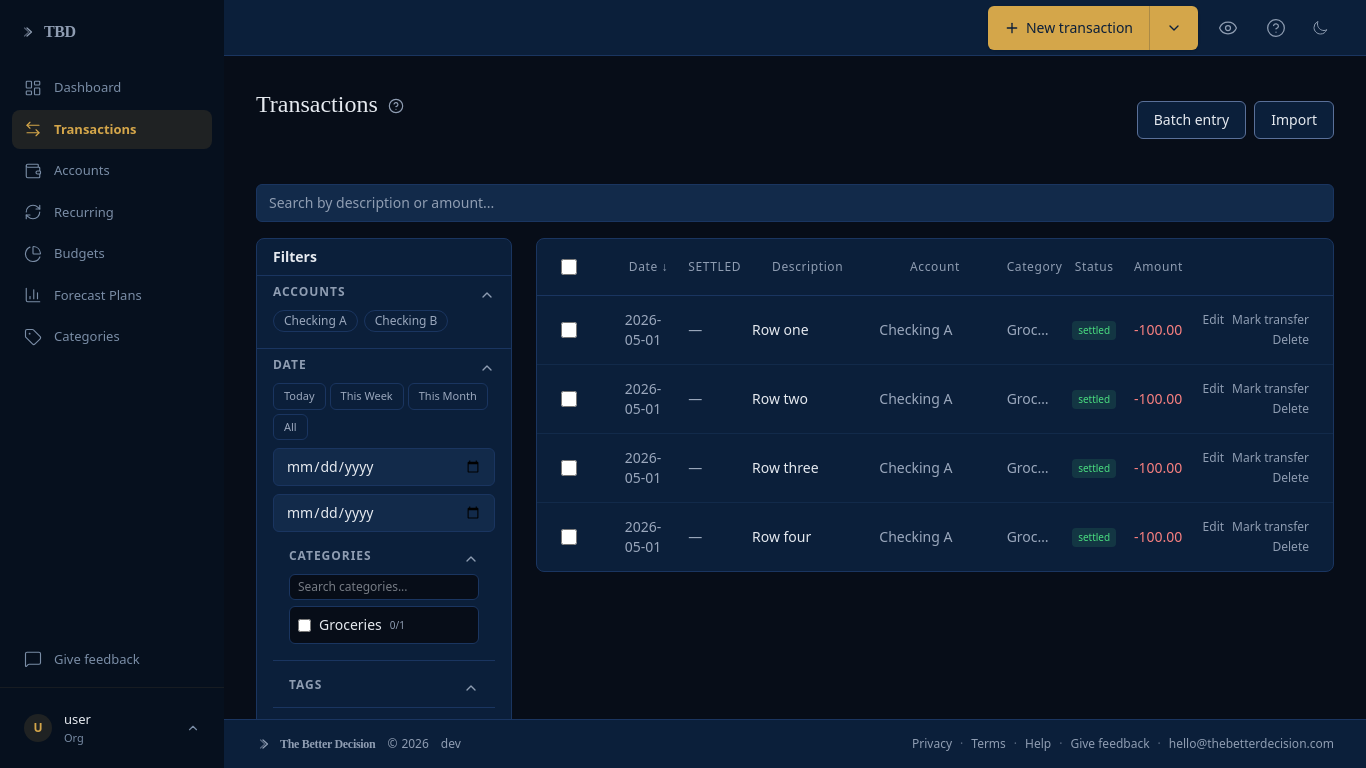
TransactionsPage — bulk-delete banner counts (TBD-290) › transfer cascade: never reports more deleted than the user selected
Check: the button with aria-label "Edit:" is shown, box [1203,312,1224,328]
Click the checkbox named "Select transaction 1".
click(569, 330)  # box [561,322,577,338]
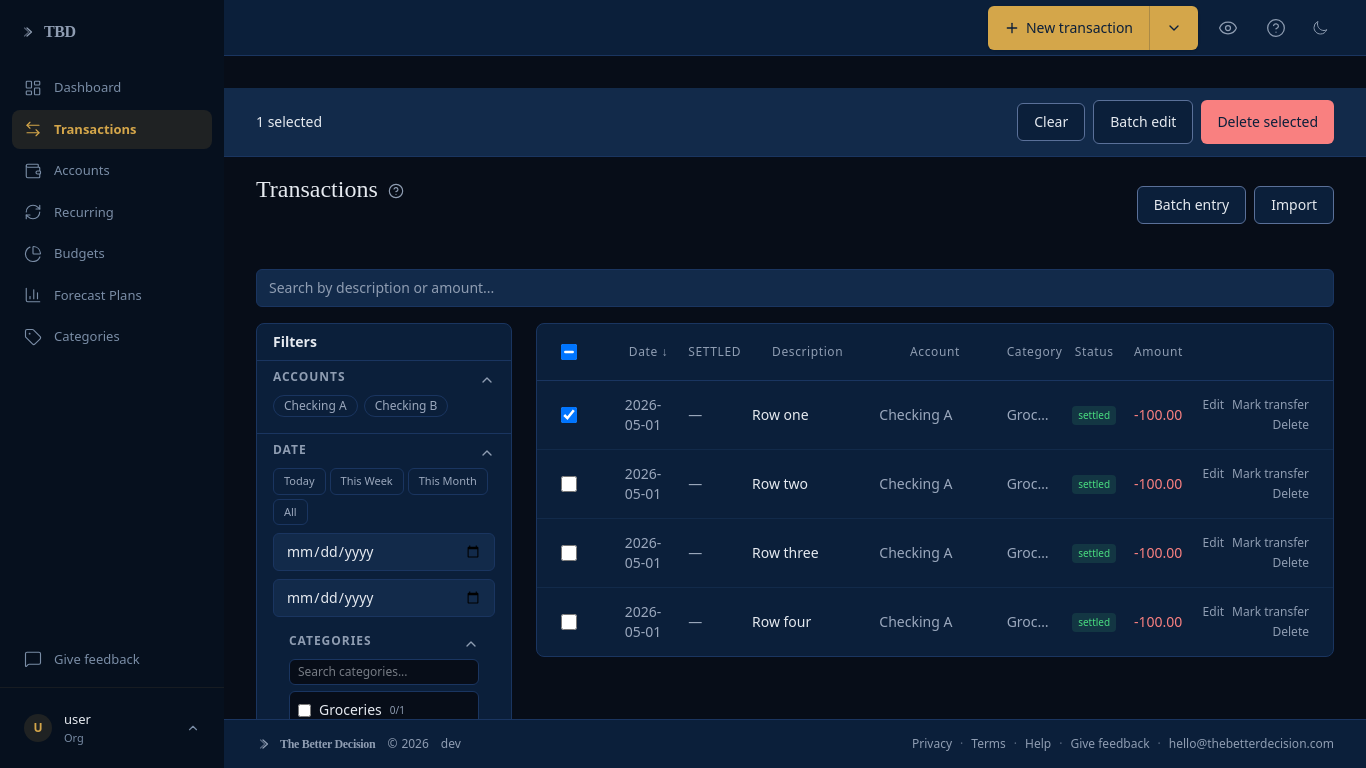
Click the checkbox named "Select transaction 2".
click(569, 484)  # box [561,476,577,492]
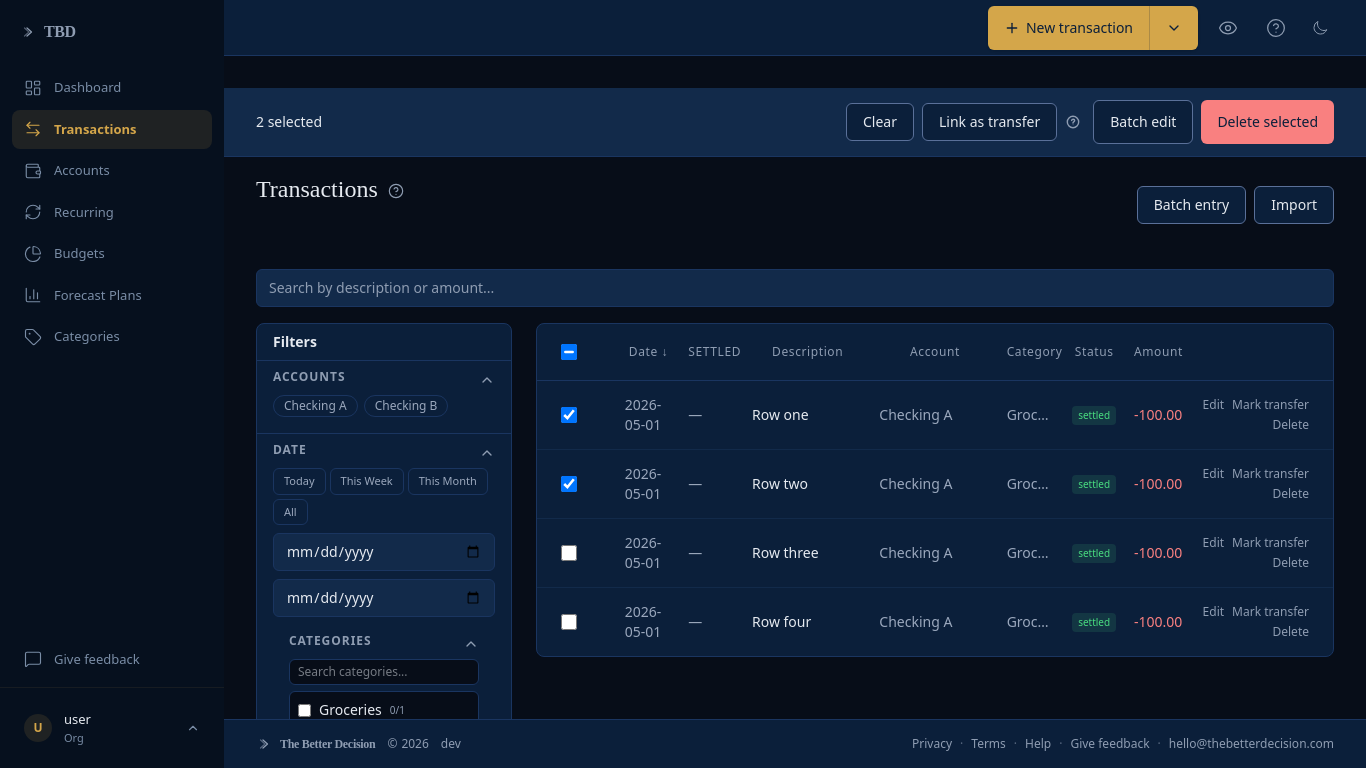
Click the checkbox named "Select transaction 3".
click(569, 553)  # box [561,545,577,561]
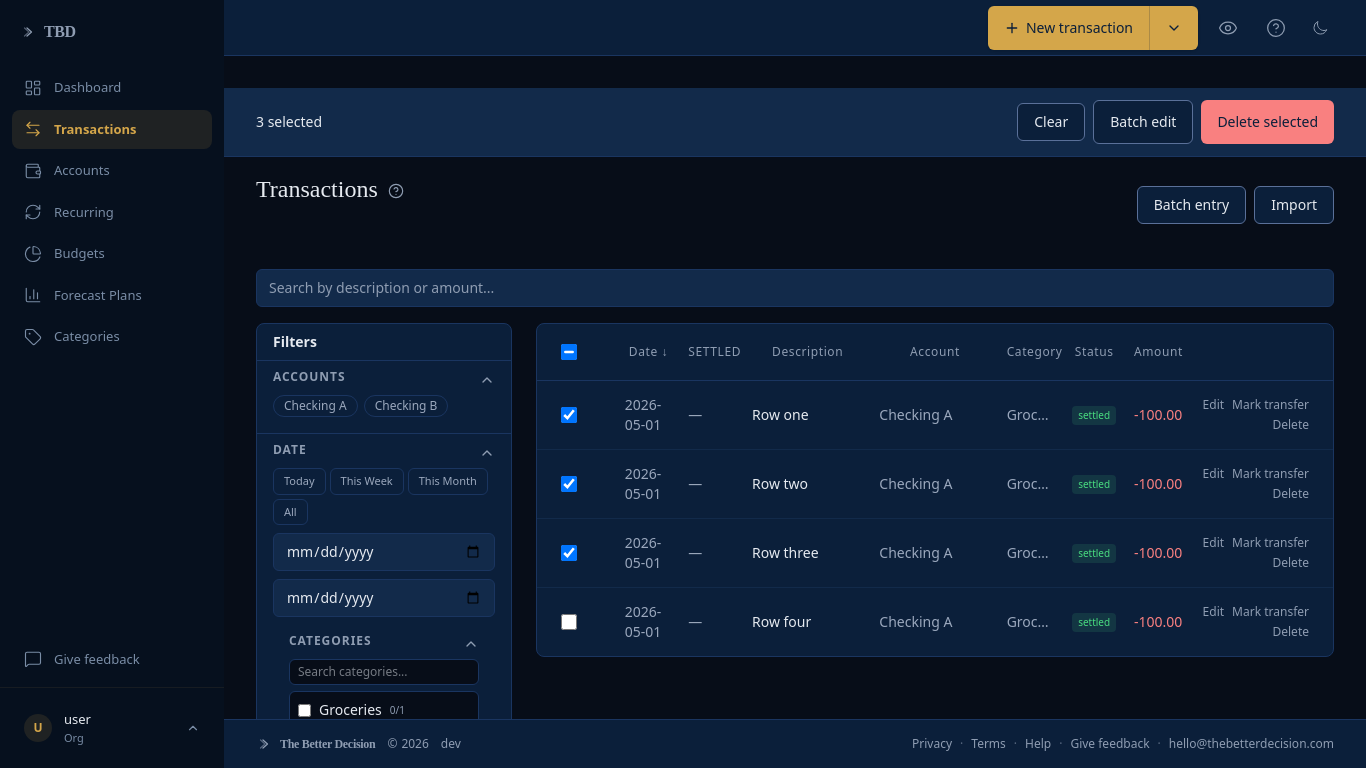
Click the checkbox named "Select transaction 4".
click(569, 622)  # box [561,614,577,630]
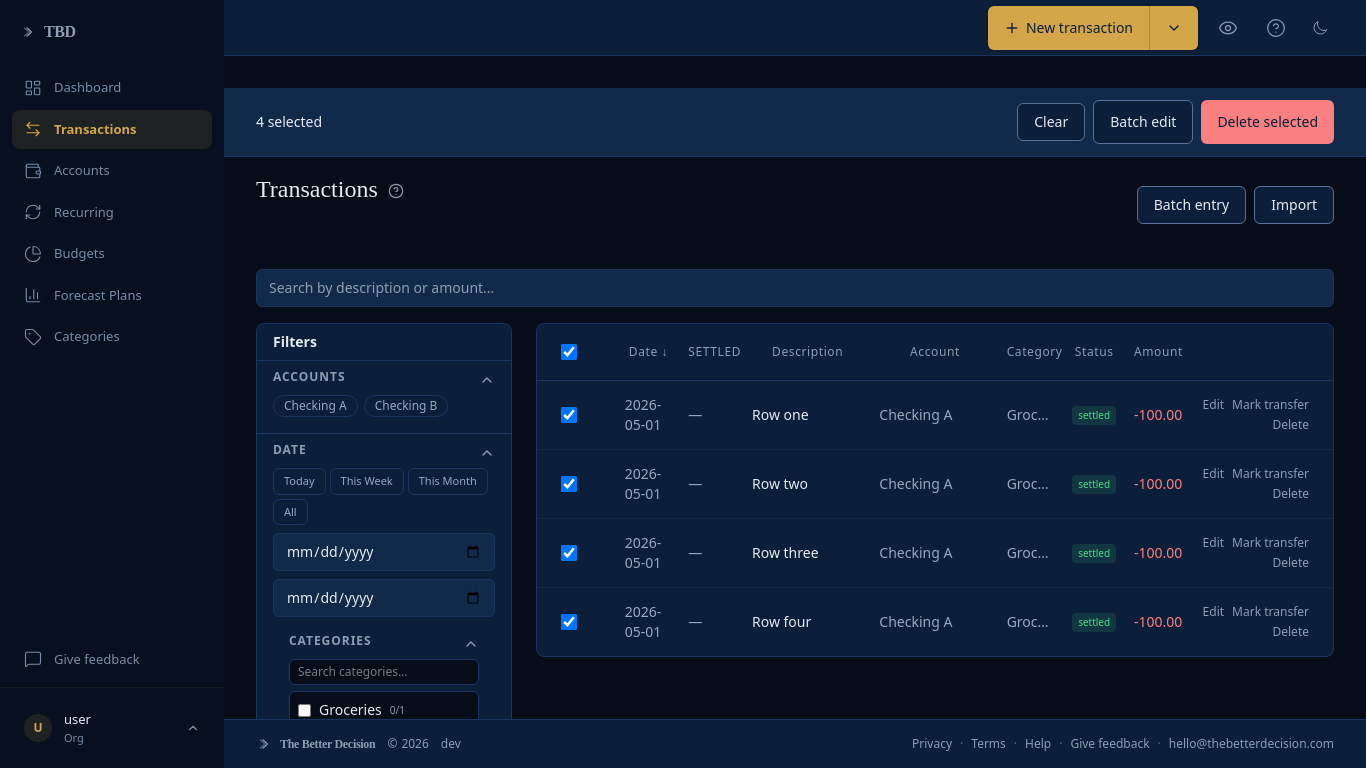
Click the button "Delete selected".
click(1268, 122)  # box [1201,100,1334,144]
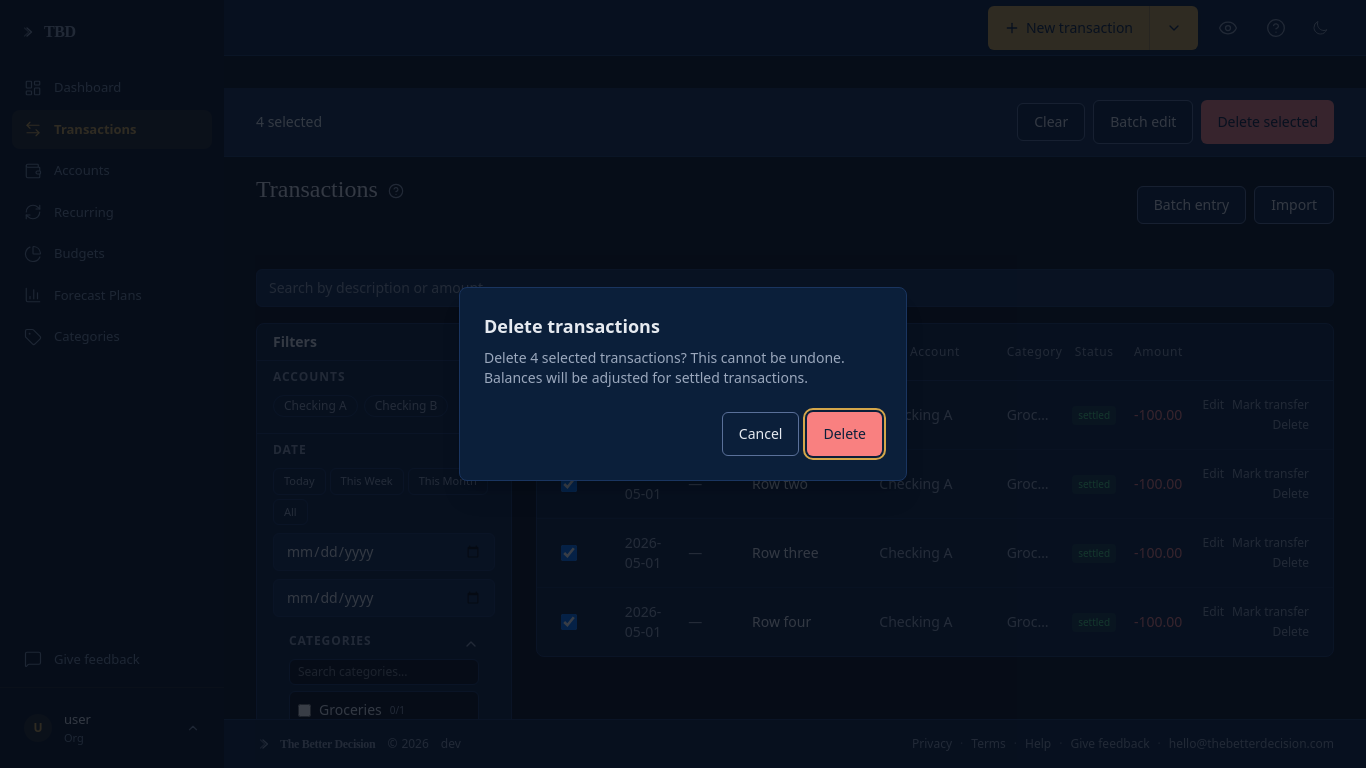
Click the button "Delete".
click(845, 434)  # box [807,412,882,456]
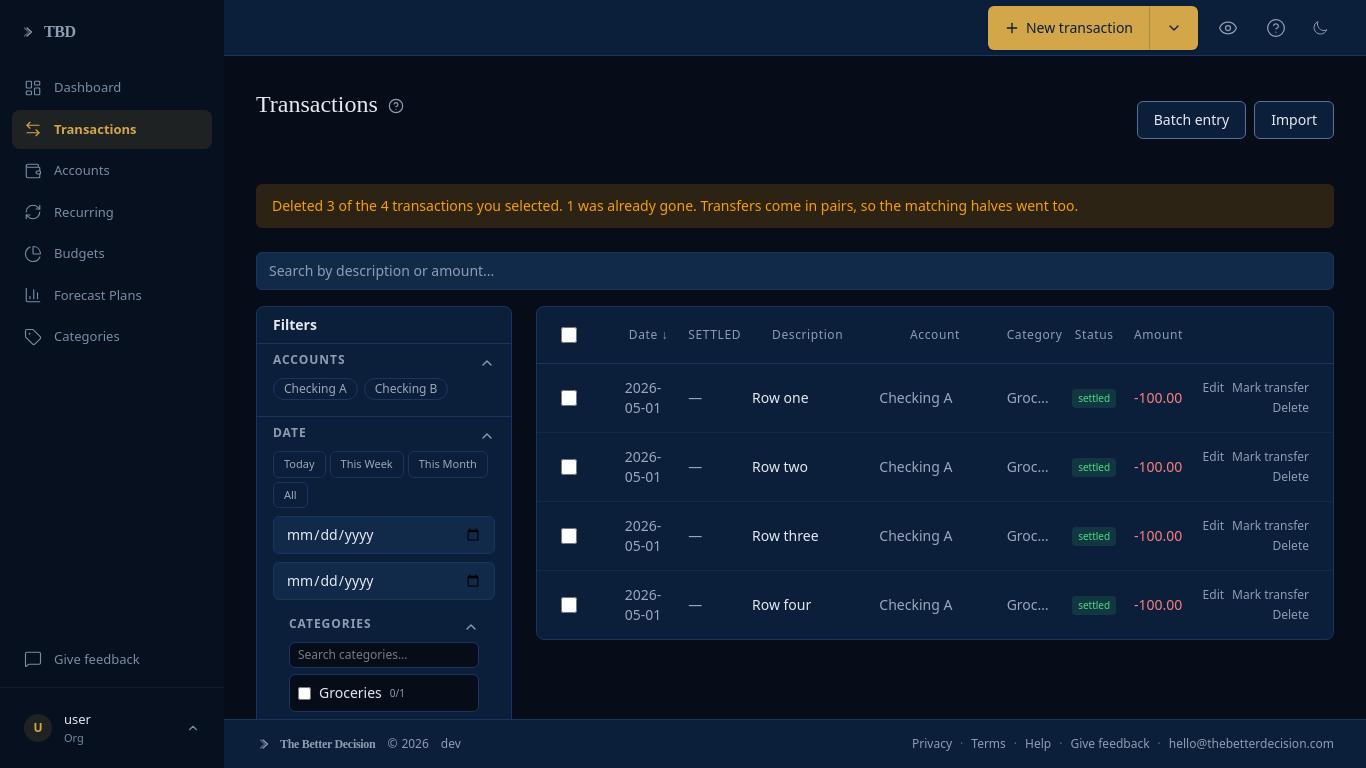
Check: the text "Deleted " shows "1 was already gone", box [272,196,1078,215]
